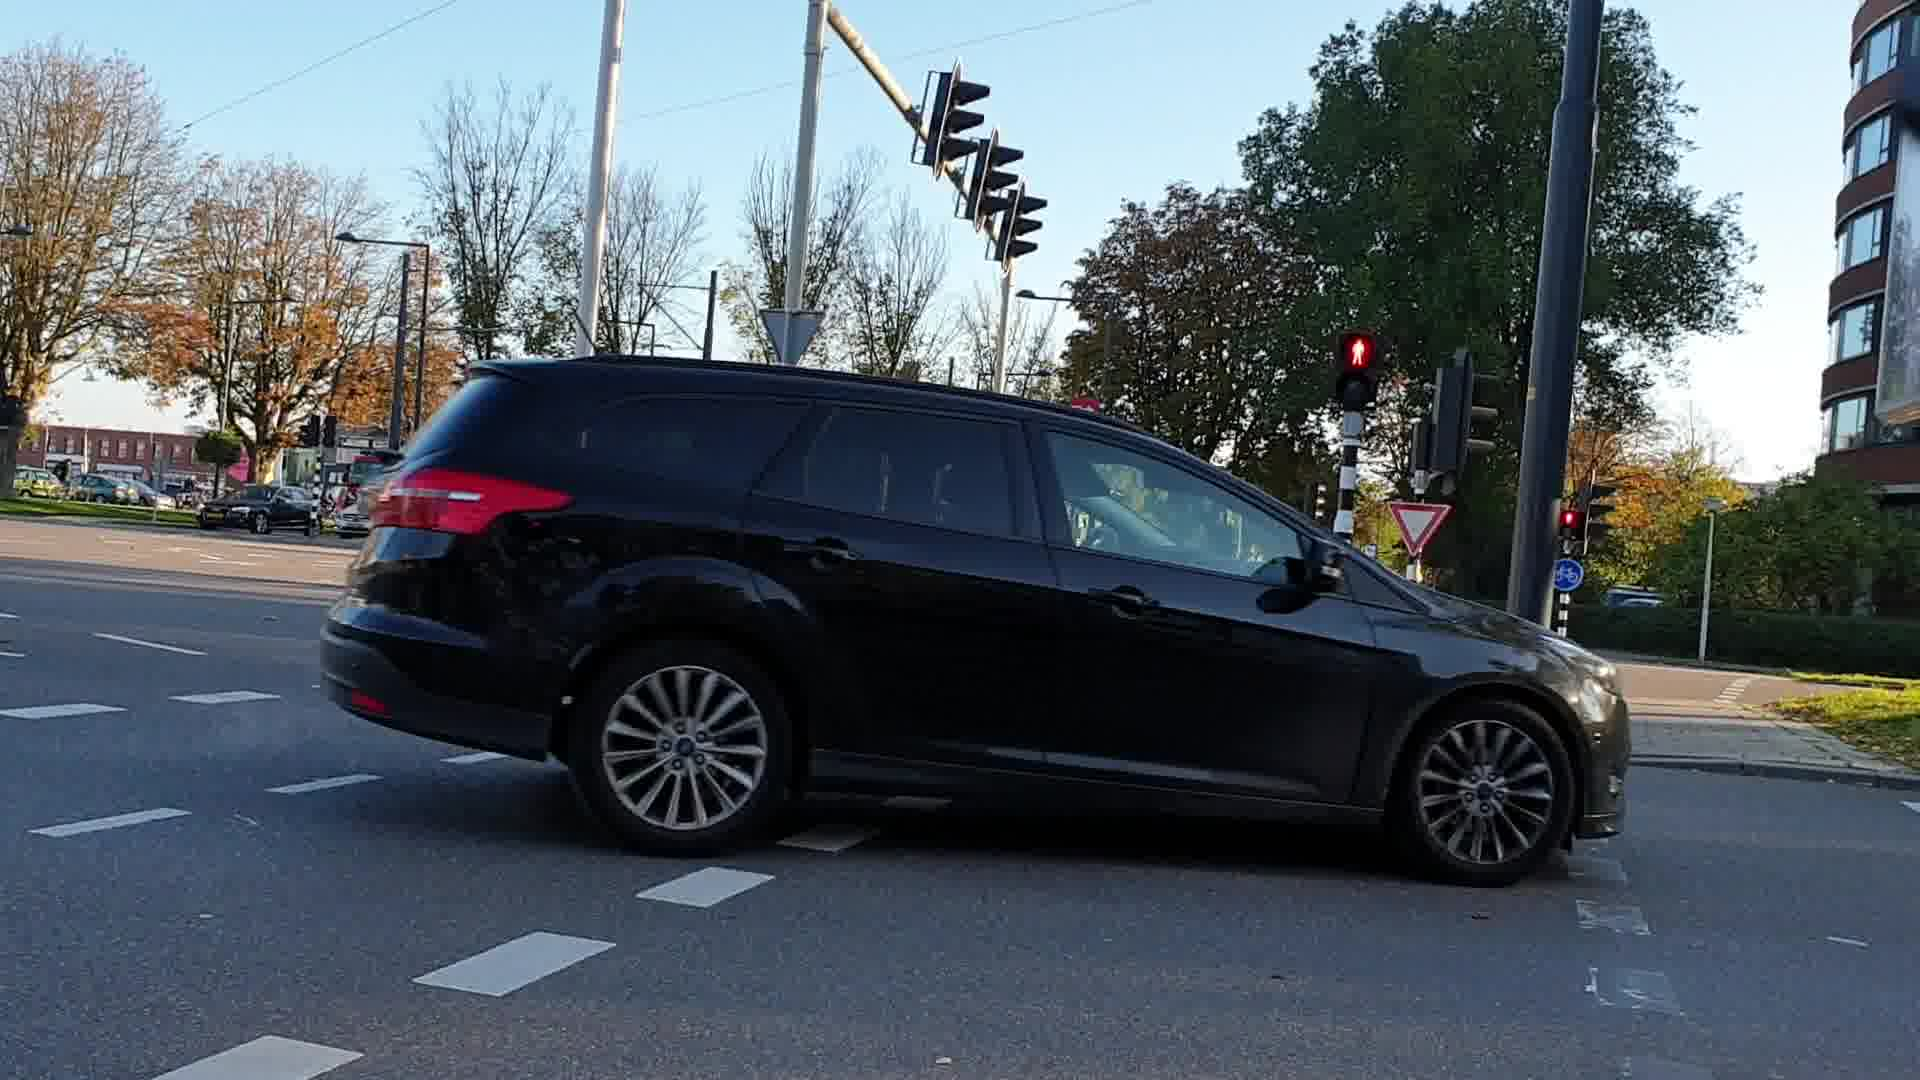car: (324, 347, 1635, 894)
